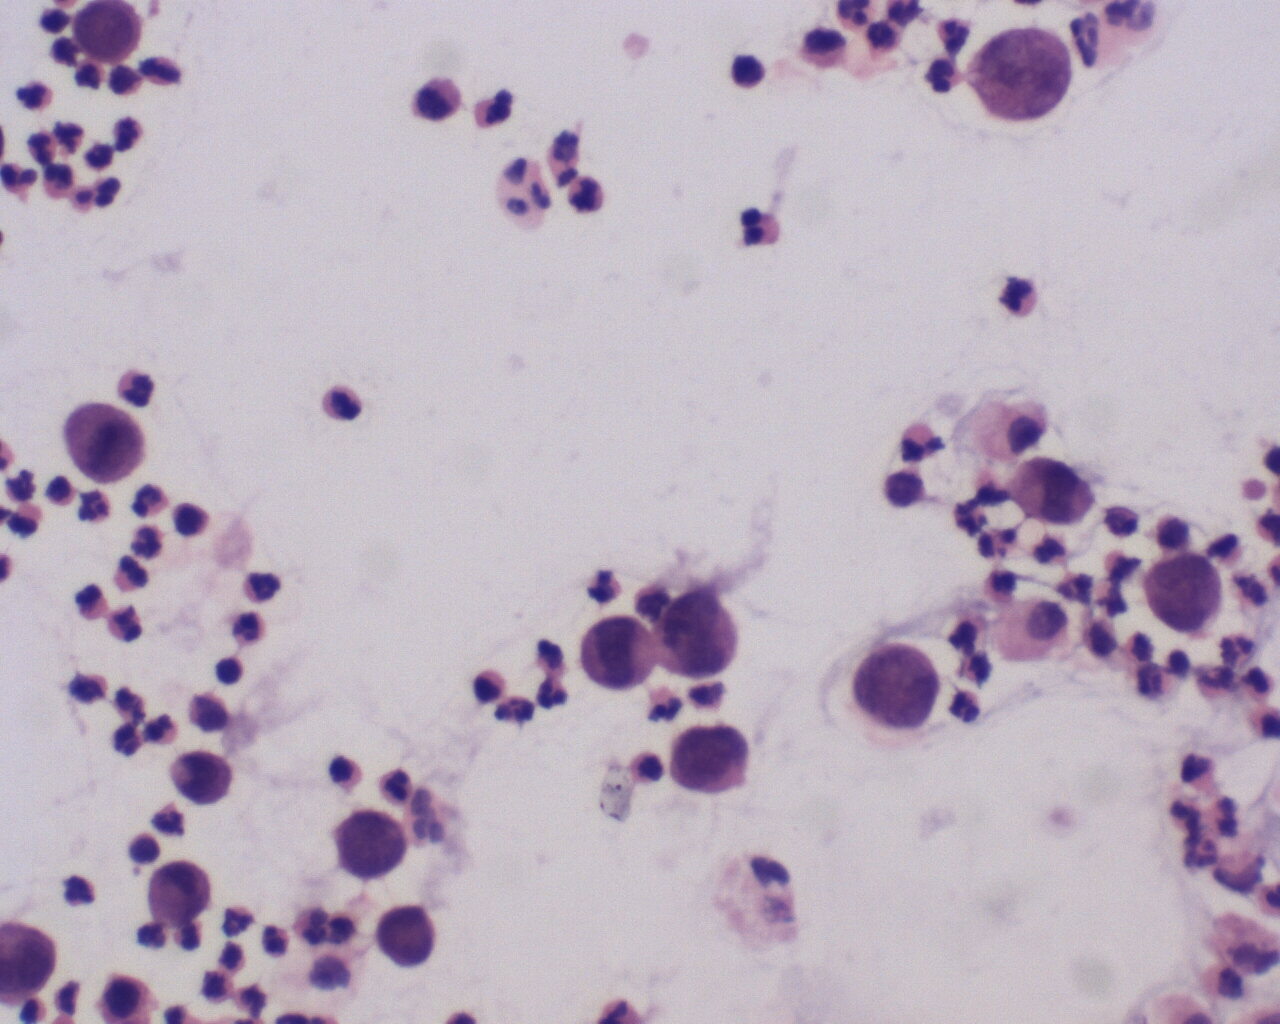ab: (974, 24, 1078, 124), (850, 639, 947, 744), (56, 396, 150, 488), (656, 585, 743, 684), (1145, 546, 1231, 639), (664, 719, 750, 800), (580, 609, 653, 695), (330, 805, 410, 883), (1010, 453, 1094, 526), (146, 860, 223, 928), (69, 1, 145, 68), (376, 904, 444, 972), (171, 747, 239, 808)
lymph: (726, 49, 775, 97), (168, 499, 212, 543), (209, 653, 254, 695)
meso: (988, 595, 1071, 671)
neutro: (995, 273, 1047, 323), (317, 379, 369, 428), (377, 765, 420, 809), (564, 171, 608, 214), (926, 53, 968, 98), (108, 545, 146, 594), (56, 870, 101, 911), (106, 604, 146, 647), (70, 484, 111, 526), (139, 711, 184, 748), (584, 563, 623, 606), (241, 565, 282, 603), (949, 685, 982, 727), (536, 672, 571, 712), (258, 921, 290, 960)
